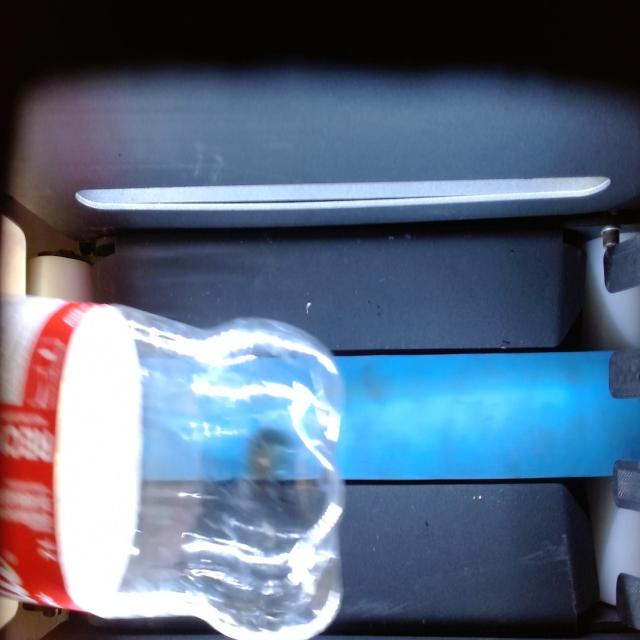bottom: (118, 307, 345, 638)
label: (0, 296, 141, 611)
